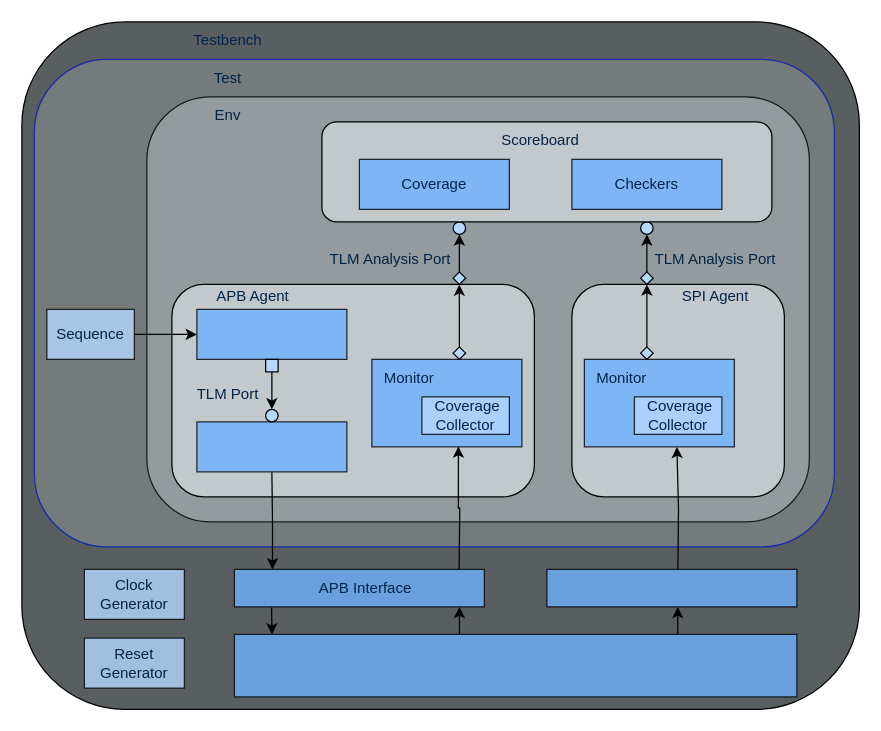
Image size: 881x731. Some labels were removed from this diagram. Each missing label, with the centre of its shape:
"Driver" belongs at (271,446).
"DUT" belongs at (515,665).
"Sequencer" belongs at (271,333).
"SPI Interface" belongs at (671,587).
